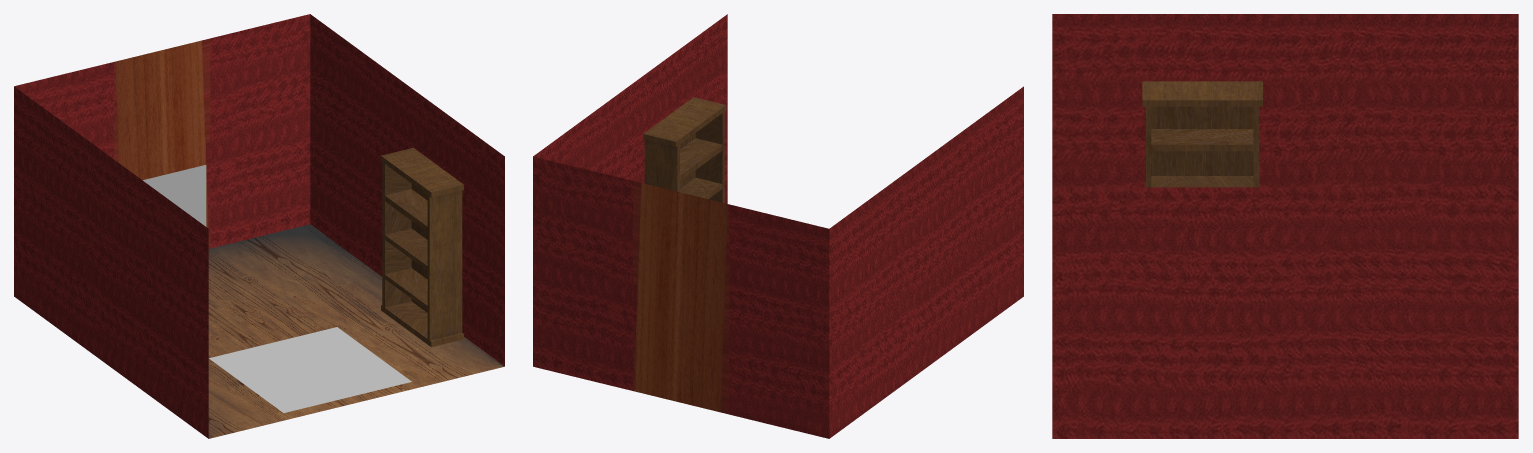
Rendered from bookroom.fbx.
3 views of the same model, side by side, from view 1: azimuth 30°, elevation 25°; view 2: azimuth 150°, elevation 25°; view 3: azimuth 270°, elevation 25° (orthographic). The views are drawn at different scales.
Parts seen in each view (by area): view 1: room, pCube1, pPlane1, pPlane2; view 2: room, pCube1; view 3: room, pCube3.
Boxes of the visible parts, x1,y1,x2,y2 form: room: (14,14,504,438); pCube1: (381,147,463,347); pPlane1: (209,327,411,412); pPlane2: (143,165,206,226); room: (533,14,1023,438); pCube1: (643,97,726,202); room: (1052,14,1518,438); pCube3: (1142,81,1262,187).
Size of the model in its own units: 387 by 263 by 441.
